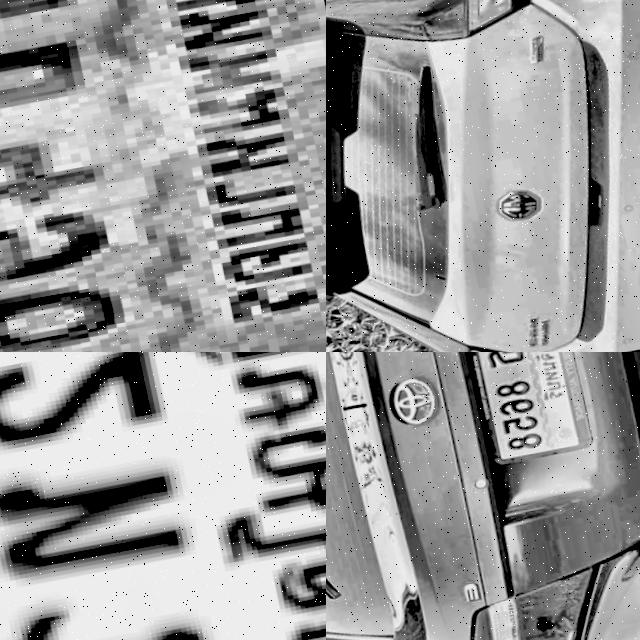license-plate: (0, 0, 326, 352), (0, 352, 326, 640), (452, 352, 593, 470), (618, 138, 640, 260)
